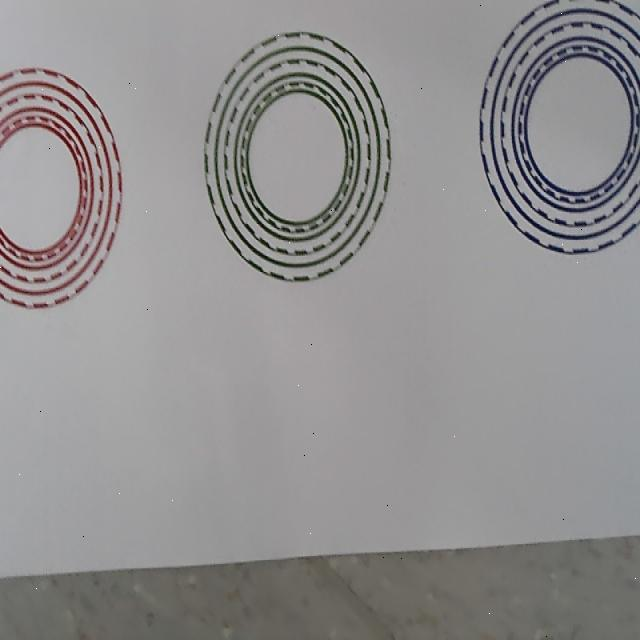g: (203, 29, 391, 284)
